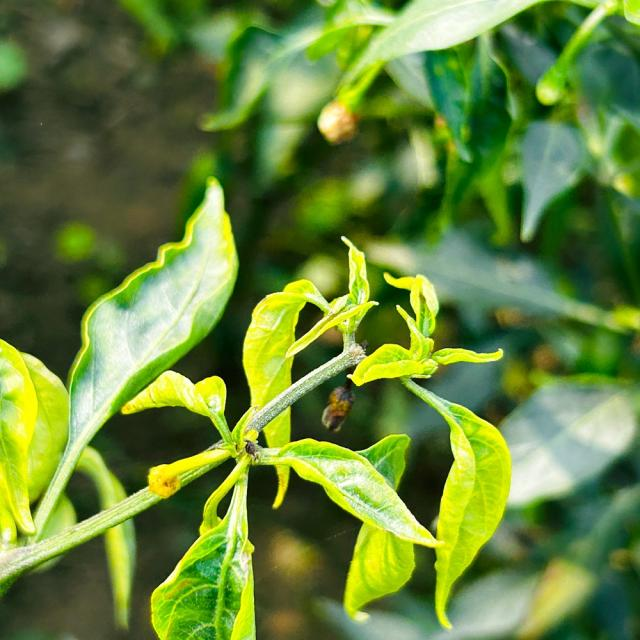Chilli_Leaf_Curl: (1, 177, 512, 637), (118, 276, 443, 638), (26, 175, 240, 546), (342, 270, 512, 630), (398, 376, 512, 630), (240, 234, 378, 442), (267, 434, 444, 550), (148, 458, 256, 638), (346, 271, 504, 387), (0, 337, 71, 547)
